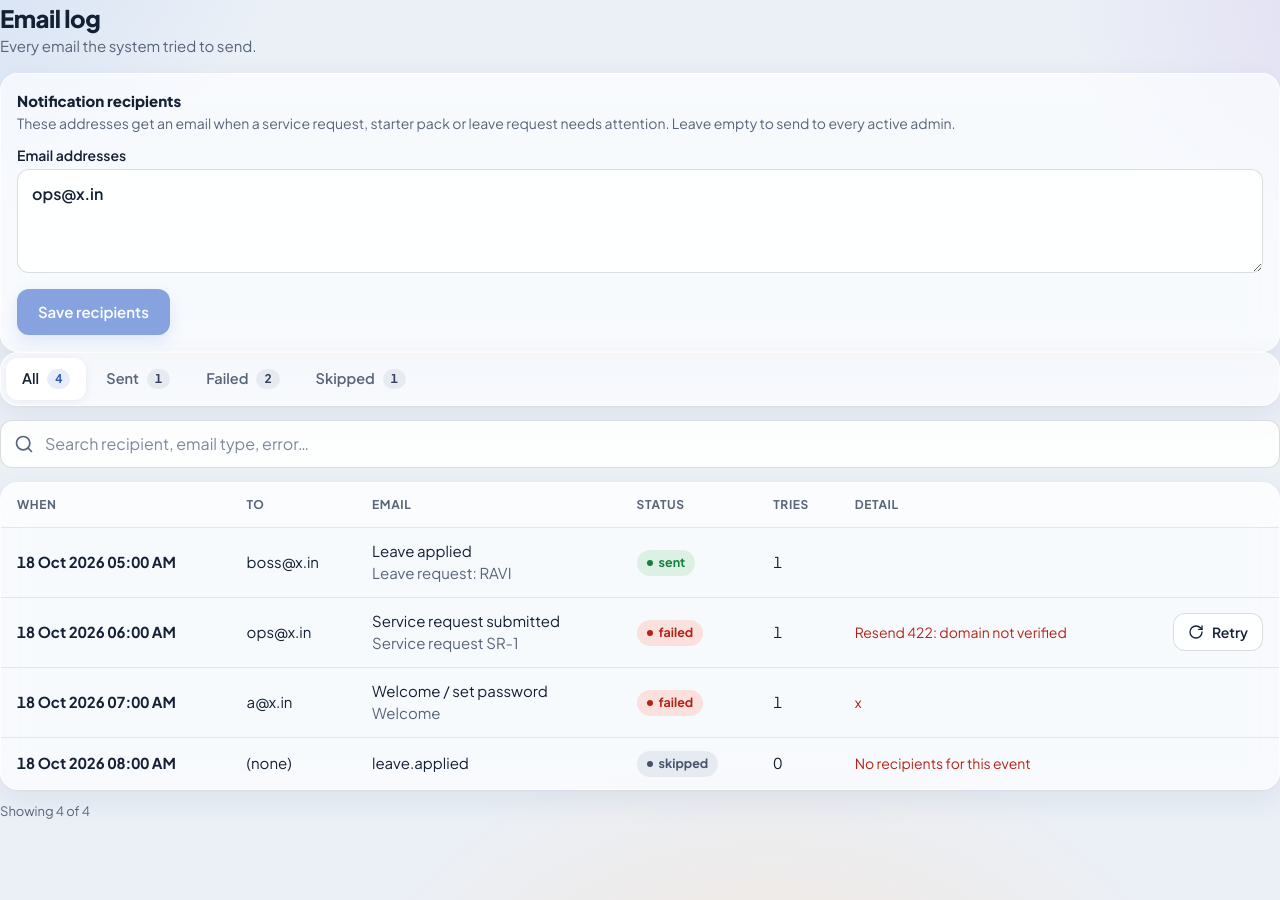
Test case: Email log › searches by recipient or error
Type "domain not verified" into the search field labelled "Search recipient, email type, error…" at point(640, 444), box [0,420,1279,468]
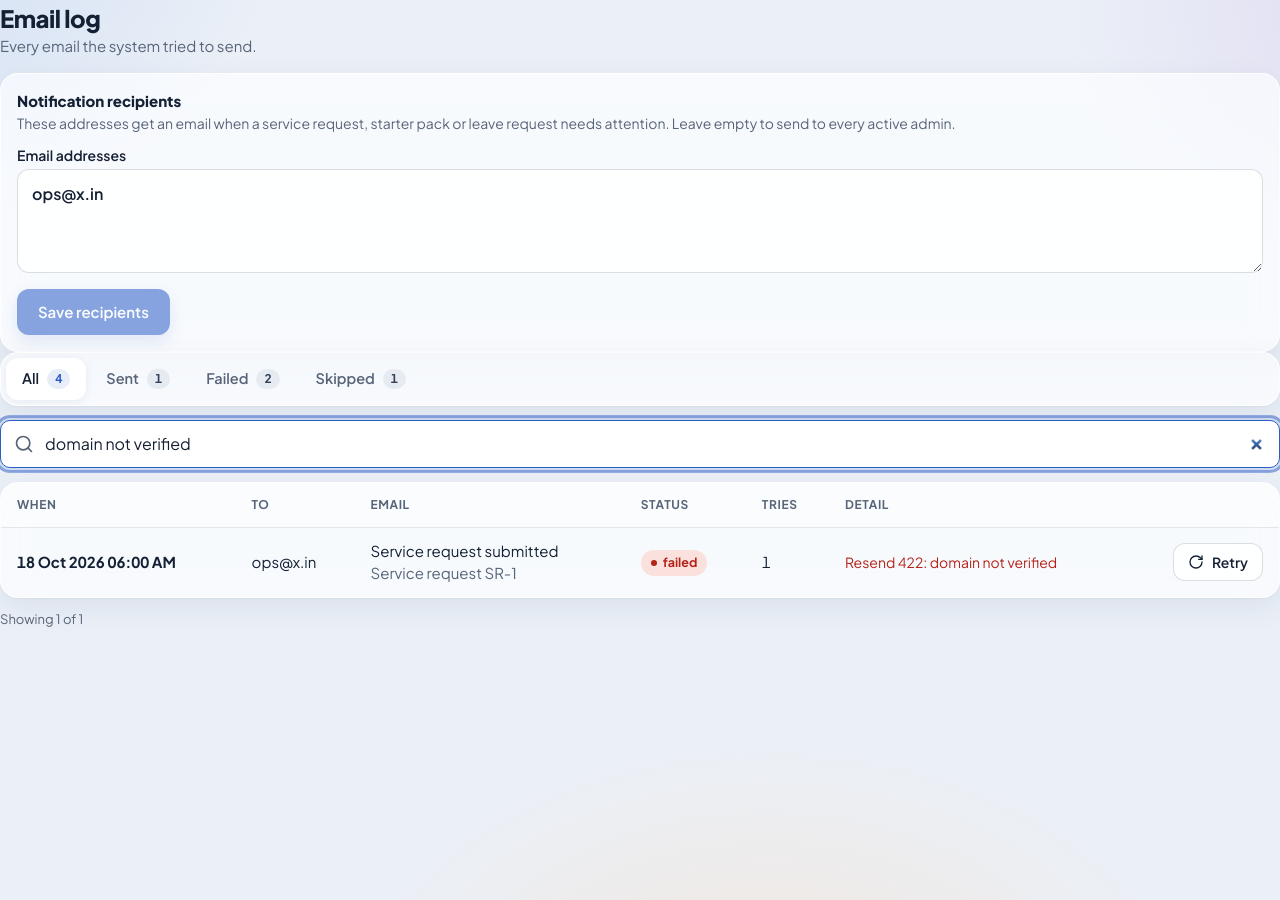
Now the text "Leave request: RAVI" is gone
